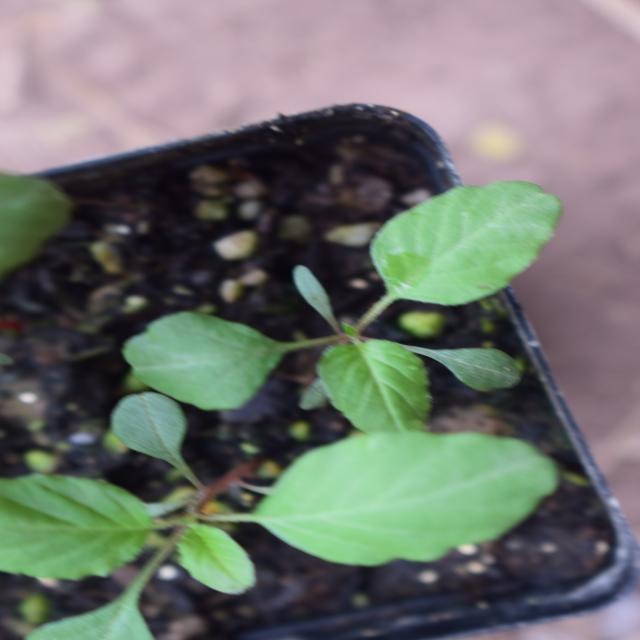pigweed: (212, 111, 457, 559)
